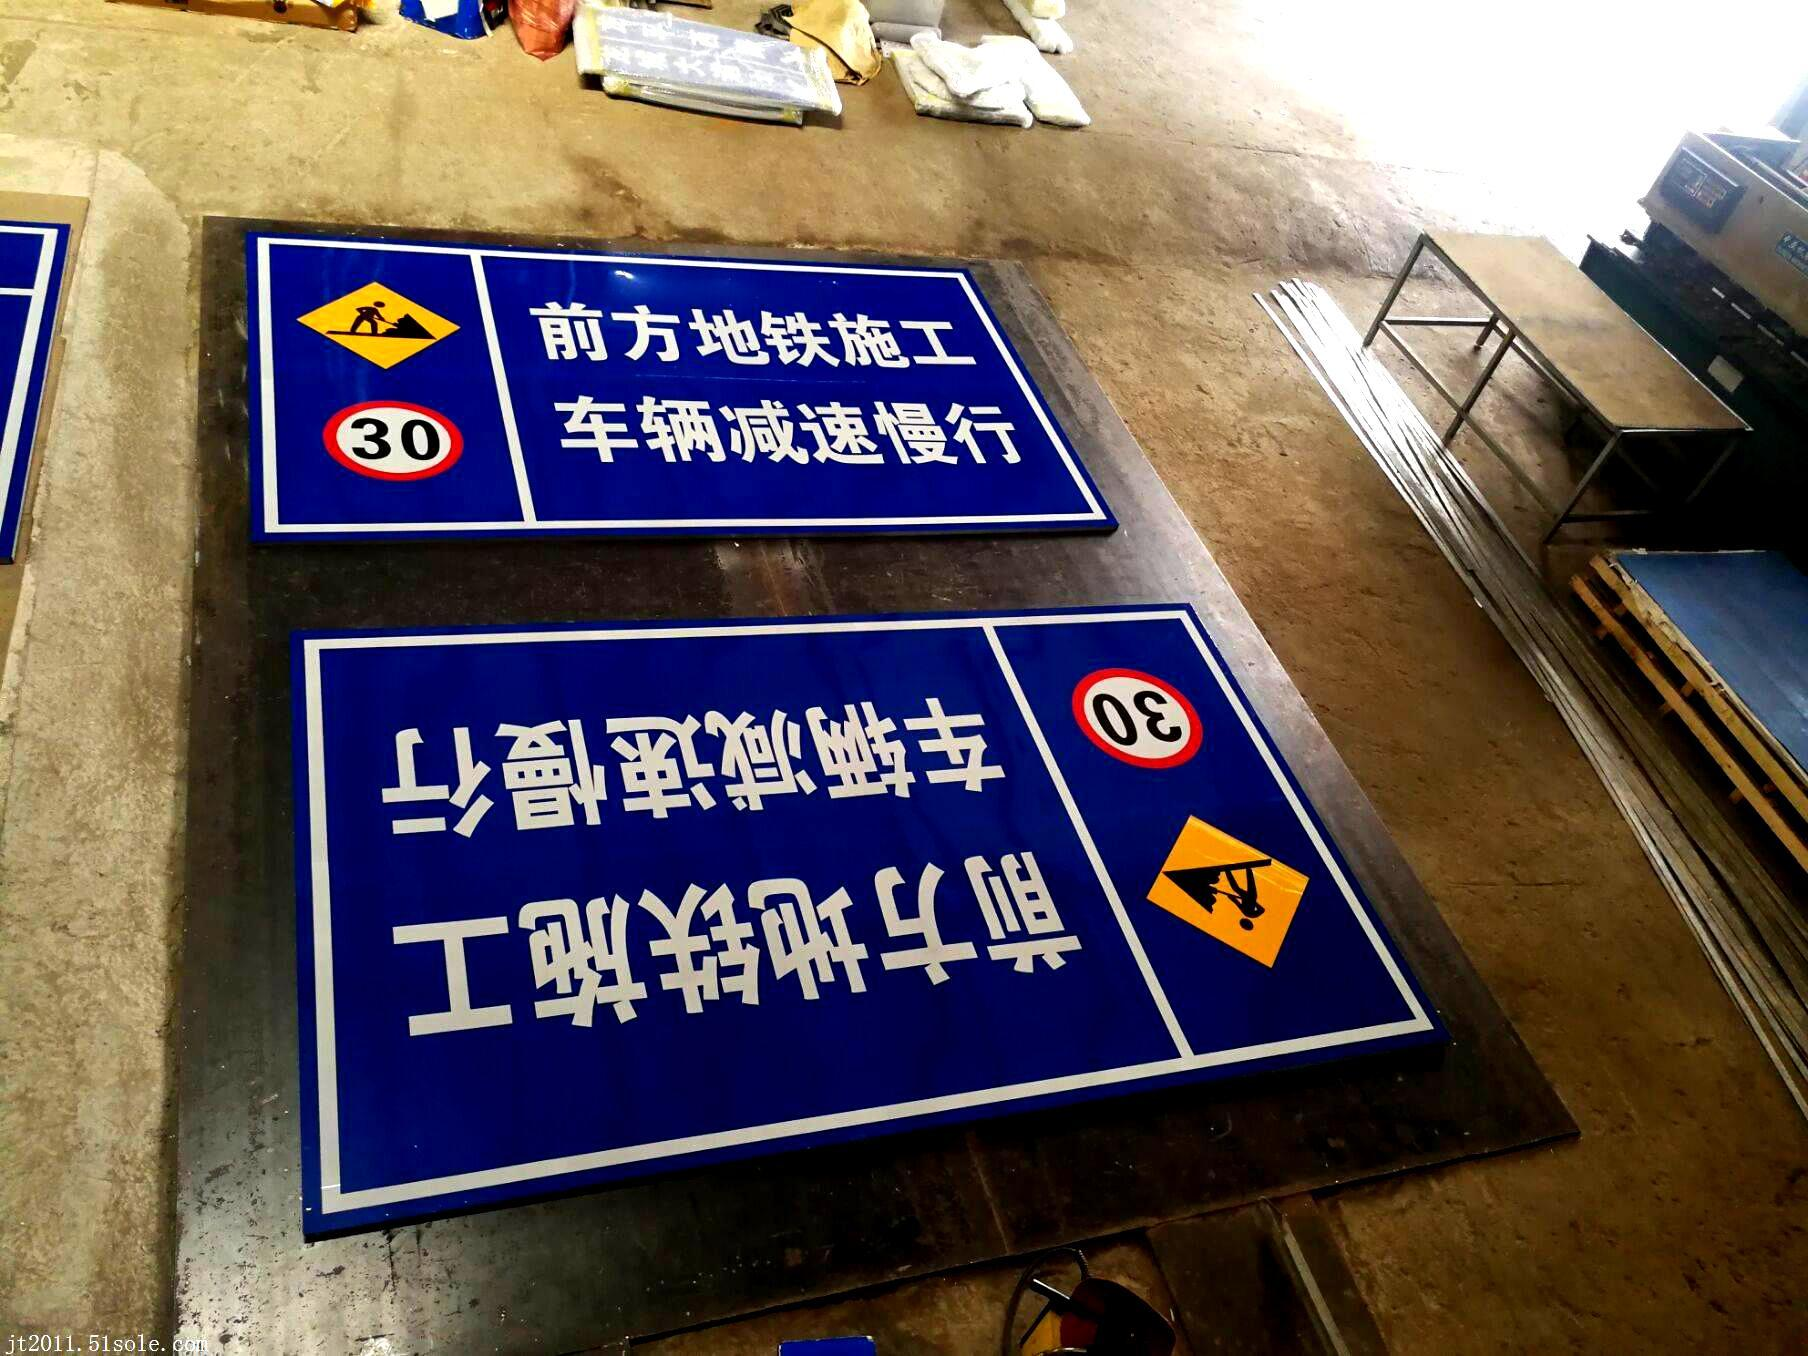sign: (288, 597, 1454, 1238), (236, 214, 1145, 547)
